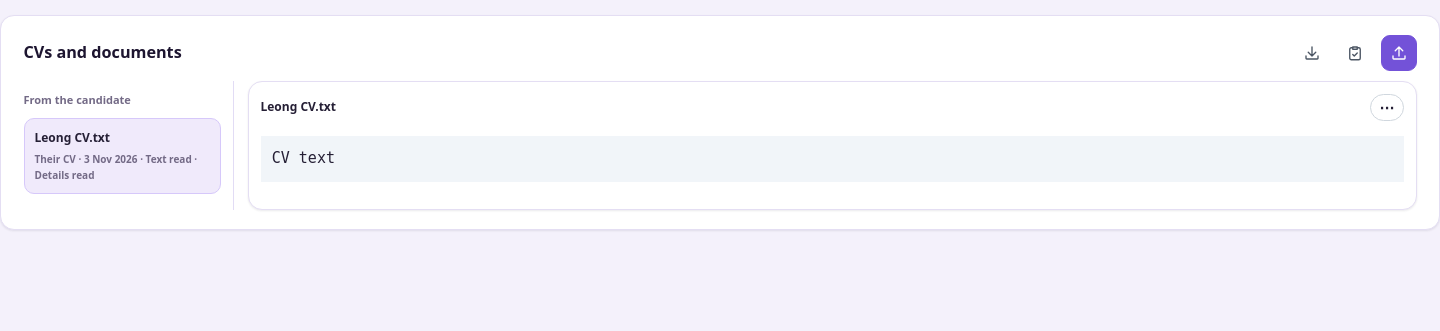
Scenario: CVs and documents › reads a CV read by older rules again when its details are reviewed, then opens the review
Expected: the text "CV text" is shown, 260,136 -> 1404,182
Click the button named "Review details". click: (1355, 53)
box: 1337,35 -> 1373,71
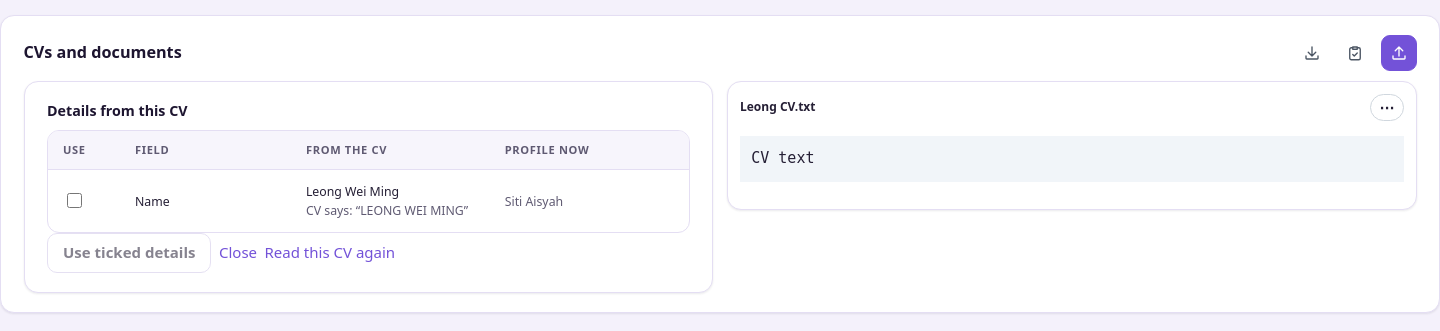
Result: the text "Leong Wei Ming" is shown at 306,183 -> 399,200
